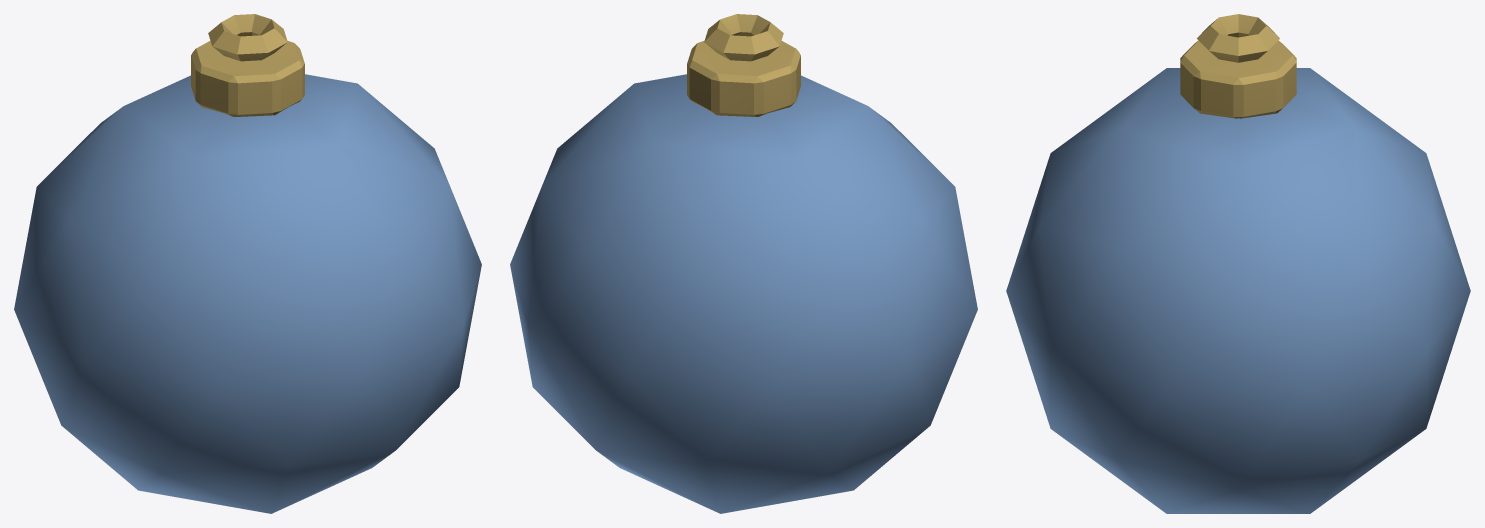
The model's file is resident_bauble_blue.glb.
3 views of the same model, side by side, from view 1: azimuth 30°, elevation 25°; view 2: azimuth 150°, elevation 25°; view 3: azimuth 270°, elevation 25° (orthographic).
Size of the model in its own units: 1 by 1.13 by 1.
